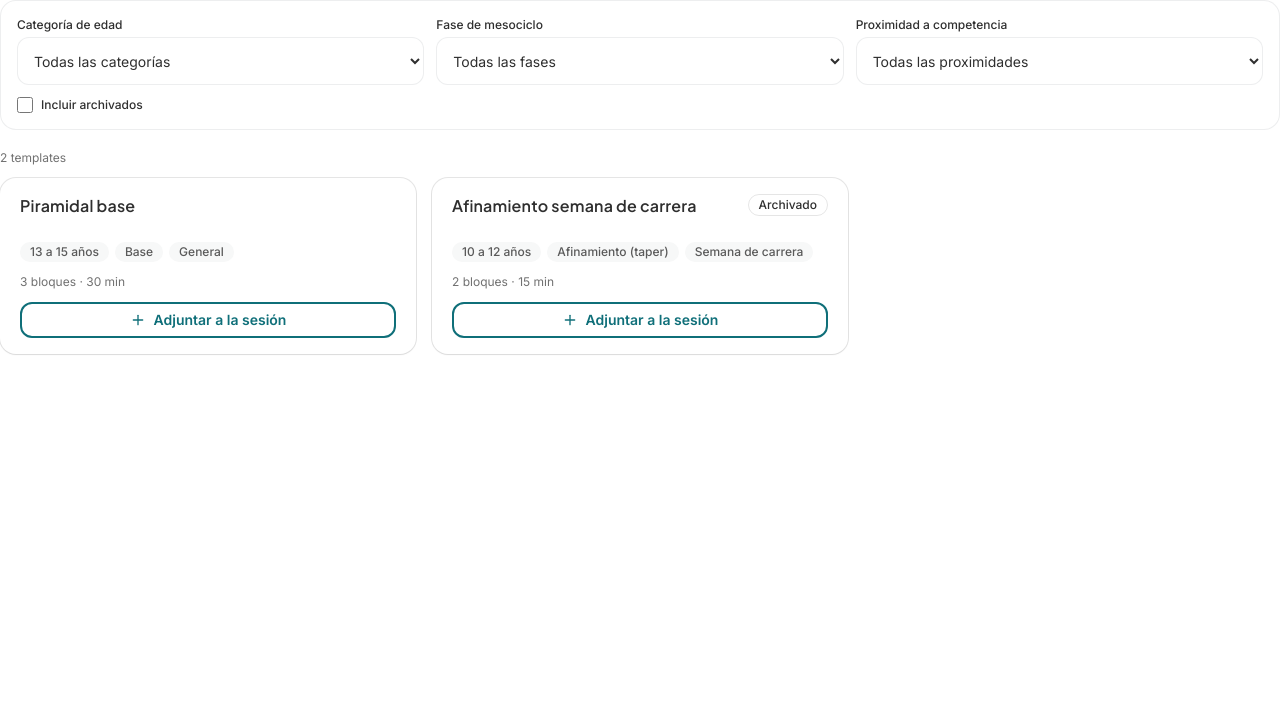
Test case: TemplatePicker — accesibilidad › no tiene violaciones de a11y con el diálogo de compuerta por edad abierto
This screenshot has width=1280, height=720.
Step 1. Click the button "Adjuntar a la sesión" below "15 min" → (640, 320), box [452,302,828,338]
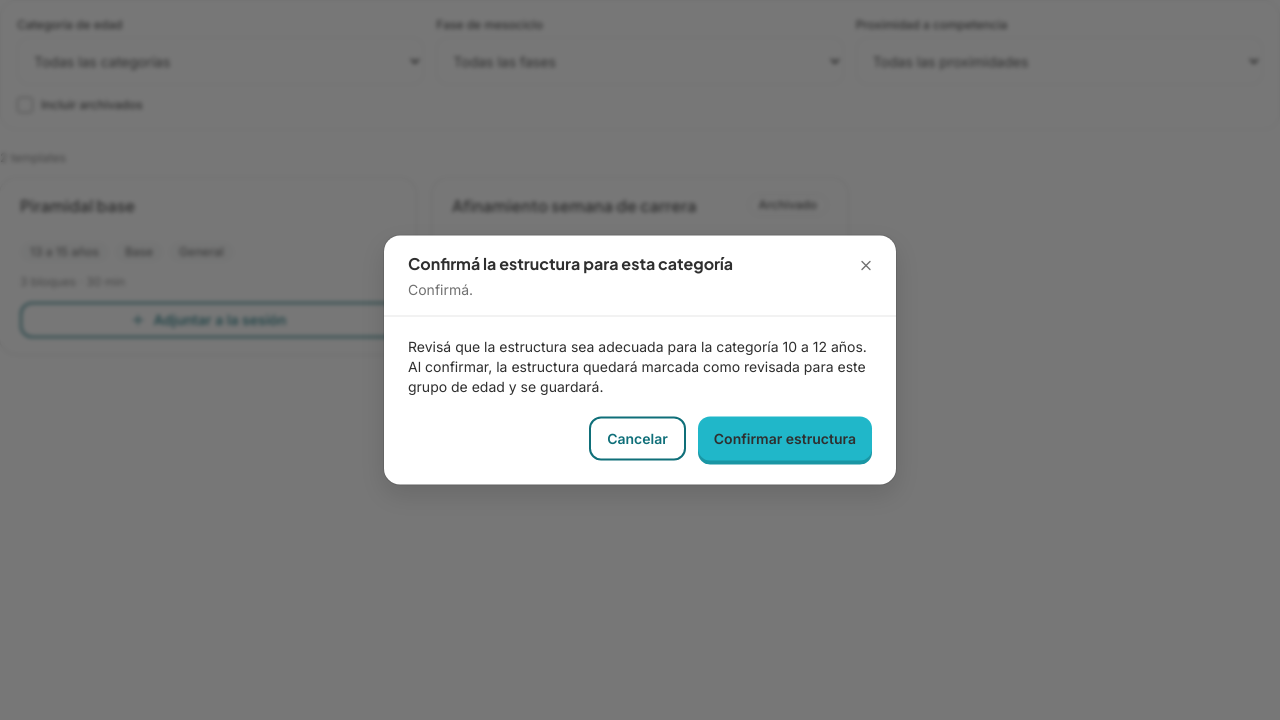
Check: the heading "Confirmá la estructura para esta categoría" is shown, box [408,252,733,274]
